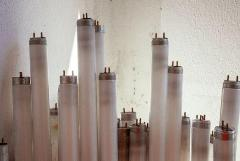lightbulb: (0, 13, 240, 161)
